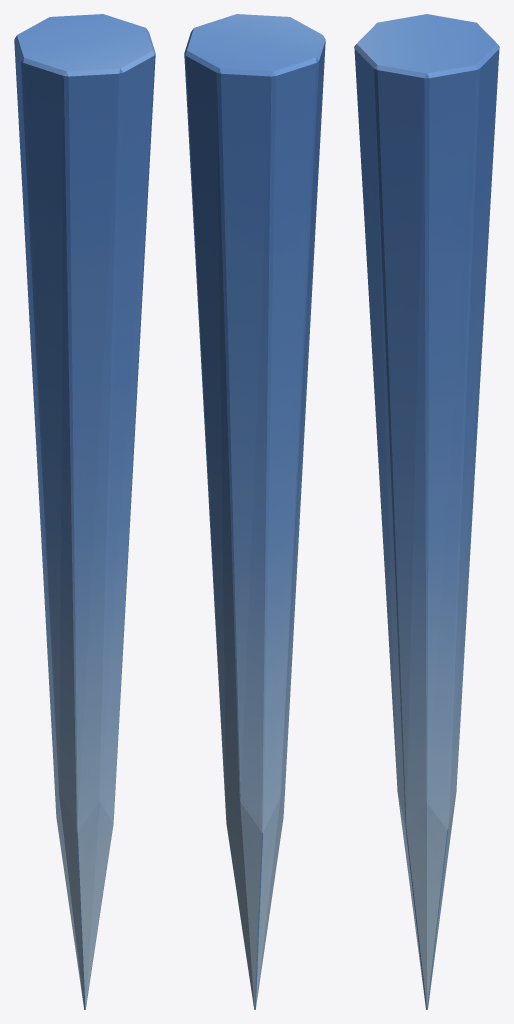
The model's file is icicle_R_2.fbx.
3 views of the same model, side by side, from view 1: azimuth 30°, elevation 25°; view 2: azimuth 150°, elevation 25°; view 3: azimuth 270°, elevation 25° (orthographic).
Parts seen in each view (by area): view 1: icicle 8 R; view 2: icicle 8 R; view 3: icicle 8 R.
Part boxes in pixels (x1,y1,x2,y2): icicle 8 R: [14, 14, 155, 1009]; icicle 8 R: [184, 14, 325, 1009]; icicle 8 R: [354, 14, 499, 1009].
Bounding box in the file's own units: 67.35 × 495 × 67.35.
1 material, 1 textured.
